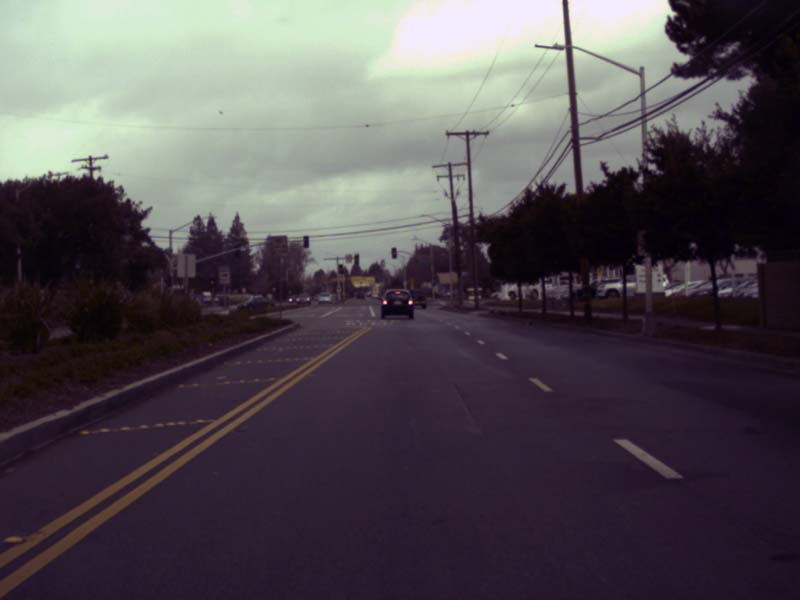Yellow: (353, 252, 360, 265), (391, 246, 398, 259), (209, 276, 215, 288), (431, 274, 435, 286), (338, 263, 343, 272)
